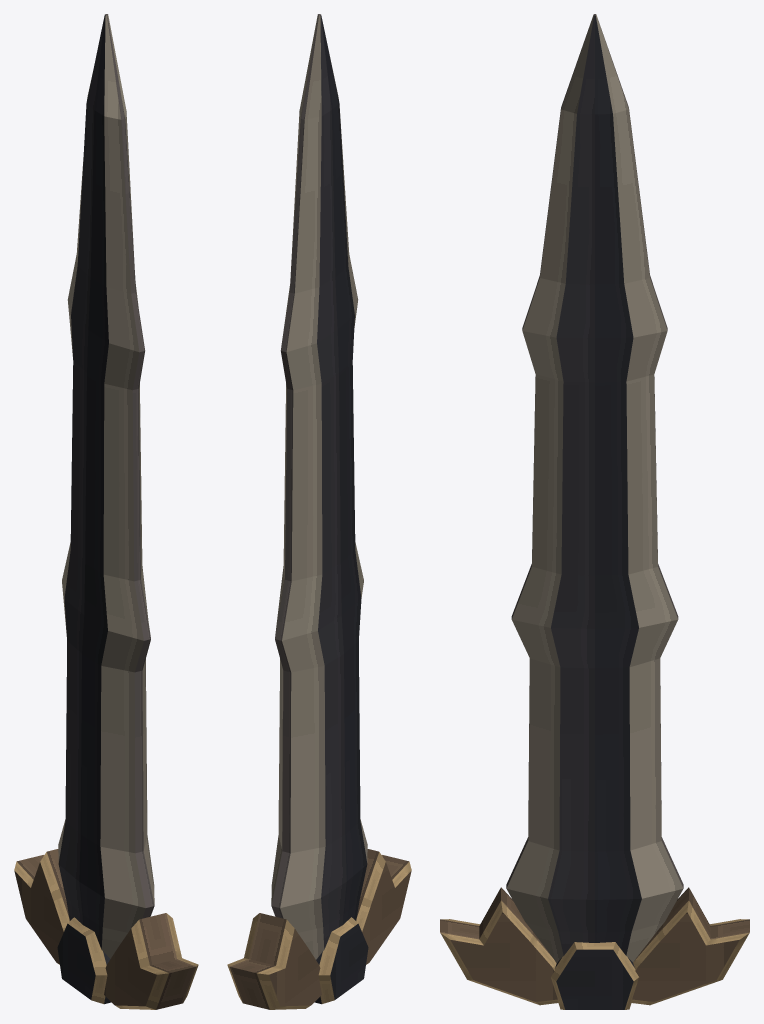
The model's file is workpiece_chilian_lihuo_sword_ground.obj.
3 renders of one model, left to right at view 1: azimuth 30°, elevation 25°; view 2: azimuth 150°, elevation 25°; view 3: azimuth 270°, elevation 25°, orthographic.
Visible parts, largest first — view 1: geometry; view 2: geometry; view 3: geometry.
Part boxes in pixels (box(x1,y1,x2,y2)): geometry: box(14, 14, 198, 1009); geometry: box(227, 14, 411, 1009); geometry: box(440, 14, 749, 1009).
Bounding box in the file's own units: 0.0825 × 1.28 × 0.365.
